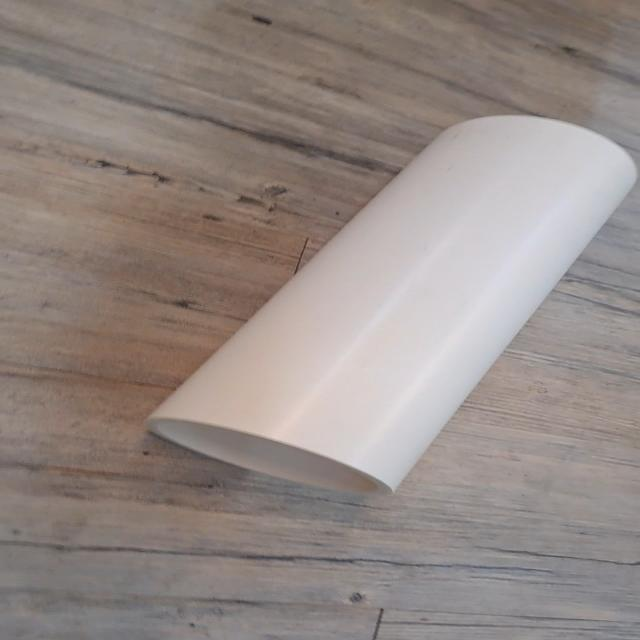CORAL: (146, 105, 640, 508)
